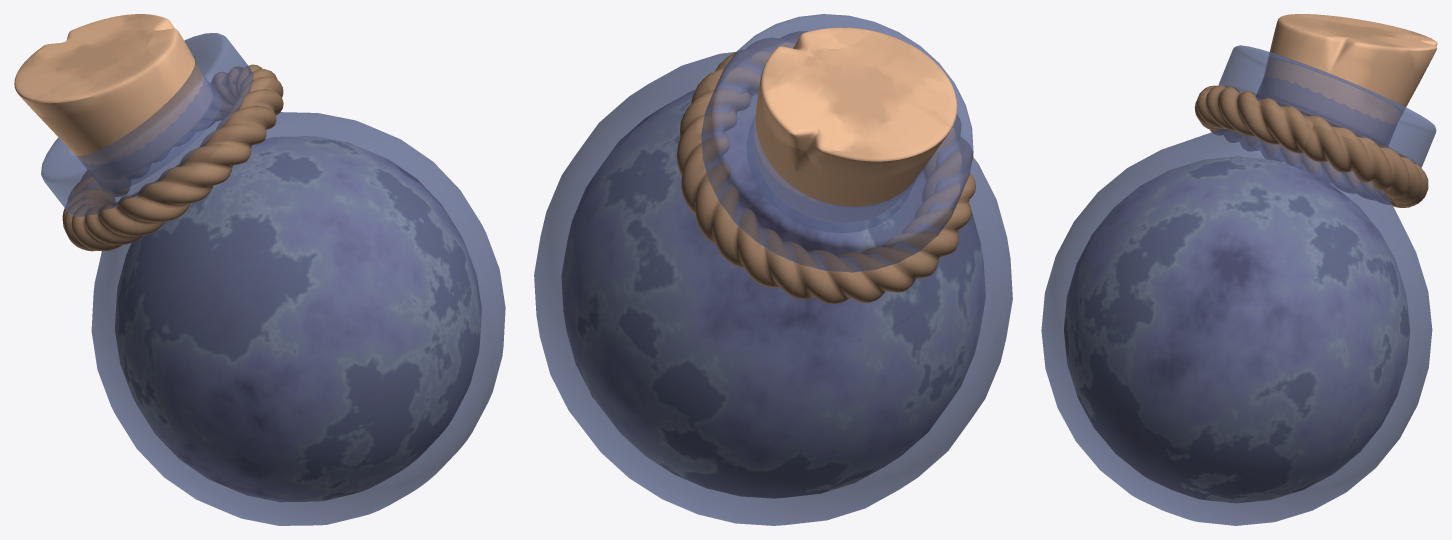
The model's file is star_firework_potion.fbx.
3 views of the same model, side by side, from view 1: azimuth 30°, elevation 25°; view 2: azimuth 150°, elevation 25°; view 3: azimuth 270°, elevation 25° (orthographic). The views are drawn at different scales.
Visible parts, largest first — view 1: bottle, nebula.001, cork, rope; view 2: bottle, nebula.001, cork, rope; view 3: bottle, nebula.001, cork, rope.
Boxes of the visible parts, left/top/right/bottom form: bottle: left=41, top=33, right=505, bottom=525; nebula.001: left=115, top=136, right=481, bottom=502; cork: left=14, top=14, right=212, bottom=181; rope: left=62, top=64, right=283, bottom=251; bottle: left=534, top=14, right=1012, bottom=525; nebula.001: left=561, top=90, right=985, bottom=498; cork: left=753, top=27, right=957, bottom=222; rope: left=676, top=31, right=975, bottom=304; bottle: left=1041, top=45, right=1436, bottom=525; nebula.001: left=1064, top=156, right=1410, bottom=503; cork: left=1260, top=14, right=1437, bottom=145; rope: left=1194, top=85, right=1428, bottom=207.
Bounding box in the file's own units: 2.61 × 2.95 × 2.44.
Materials: 6 (5 with a texture image).
